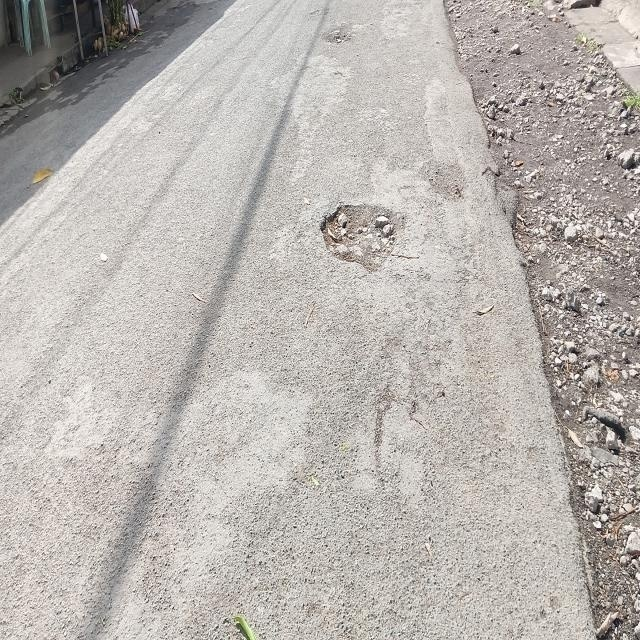pothole: (300, 172, 404, 324)
